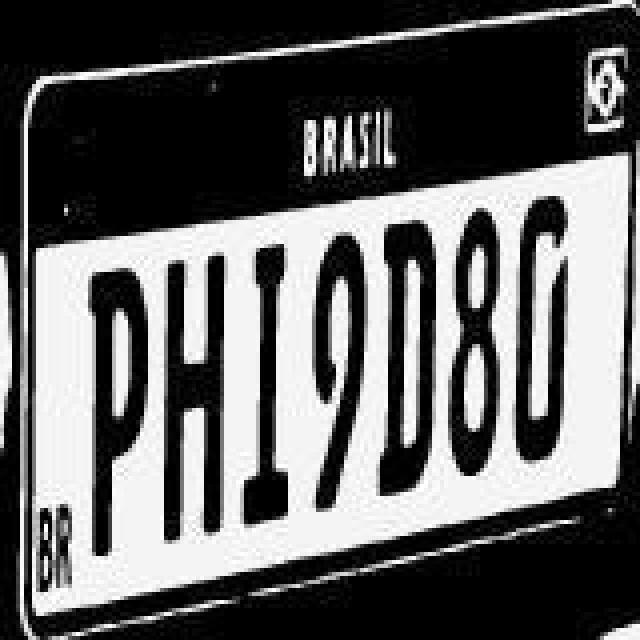8: (446, 202, 506, 478)
9: (304, 228, 376, 508)
D: (368, 222, 448, 498), (510, 194, 578, 462)
H: (144, 256, 232, 552)
I: (230, 244, 298, 532)
P: (76, 268, 148, 564)
